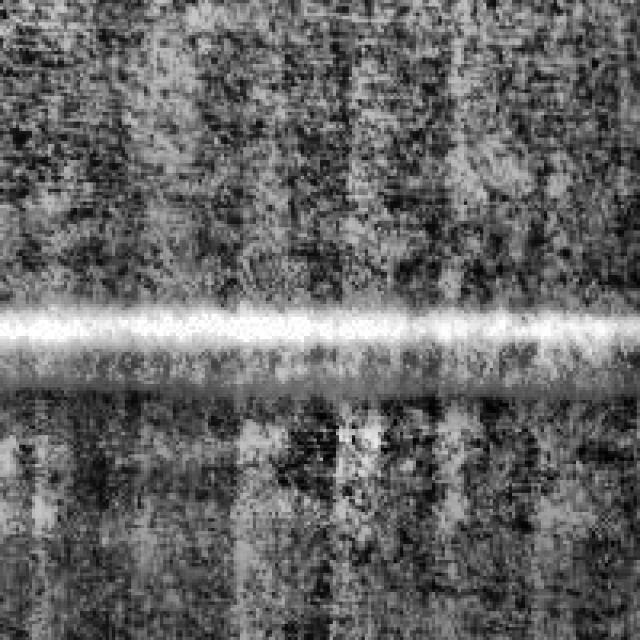Inclusion: (0, 298, 637, 388)
